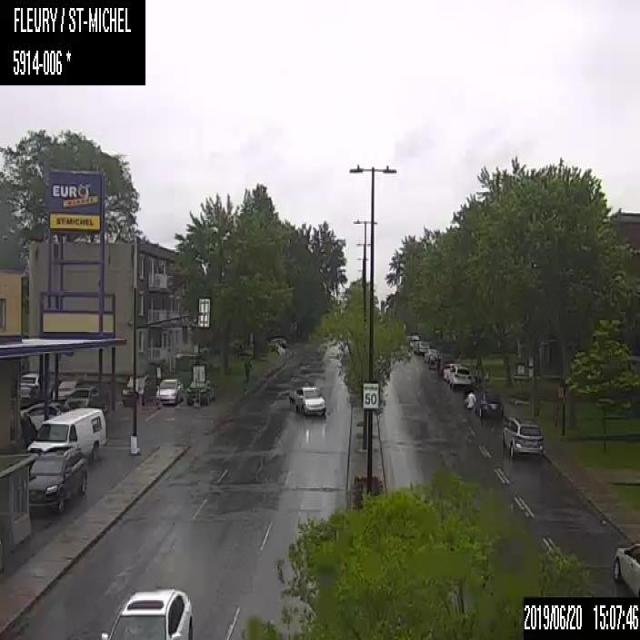pedestrian: (242, 355, 252, 381)
vehicle: (98, 585, 192, 639), (22, 443, 88, 516), (25, 405, 108, 462), (501, 415, 543, 456), (610, 541, 639, 596), (61, 383, 110, 413), (119, 368, 155, 406), (288, 384, 326, 415), (184, 376, 216, 408), (154, 376, 186, 406), (20, 402, 60, 424), (18, 369, 40, 401), (478, 394, 502, 420), (449, 366, 472, 388), (442, 360, 461, 381), (412, 338, 430, 356)
